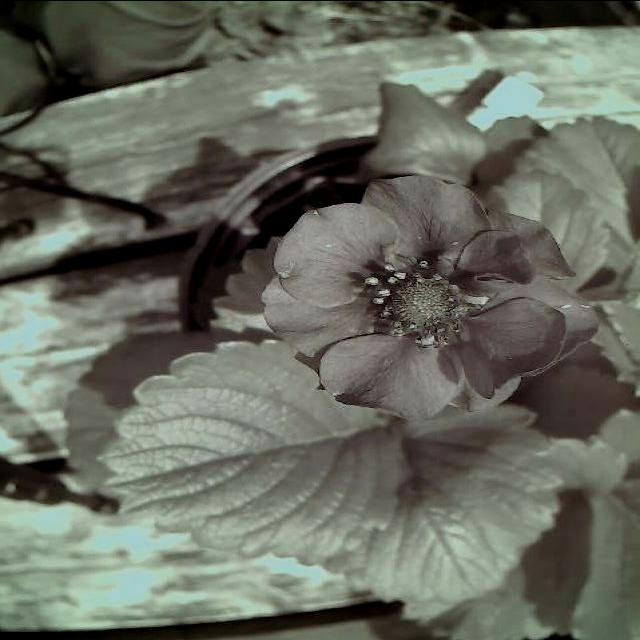flower: (245, 173, 602, 414)
